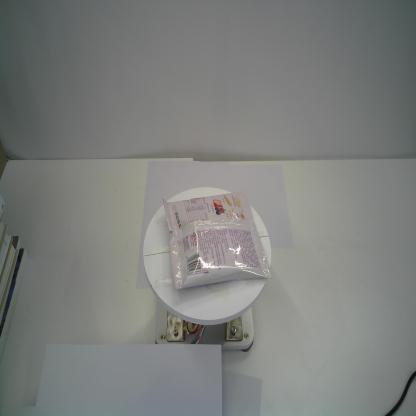Instant Drink: (162, 190, 273, 290)
